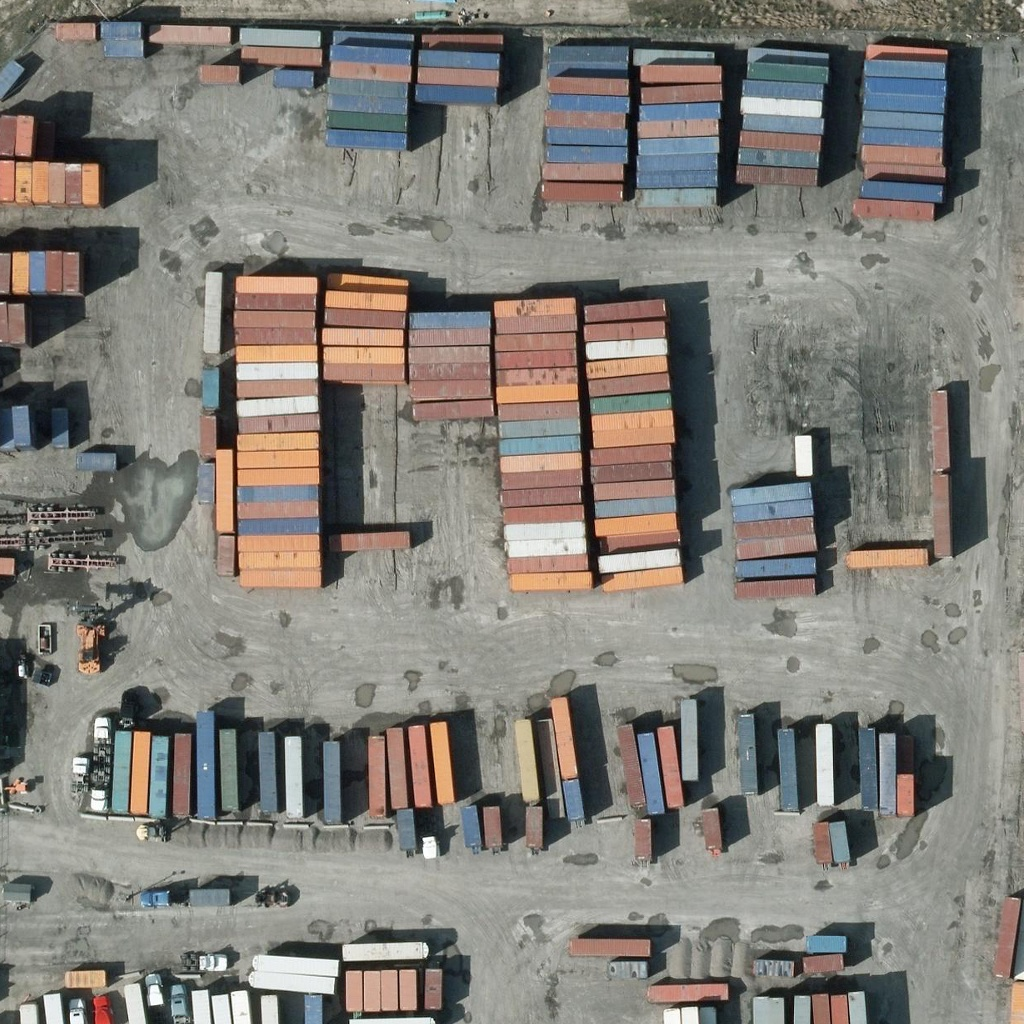truck: (180, 951, 227, 970), (140, 888, 187, 907), (245, 888, 292, 907), (144, 967, 163, 1007), (67, 992, 84, 1024), (94, 992, 111, 1024), (171, 992, 188, 1024)
